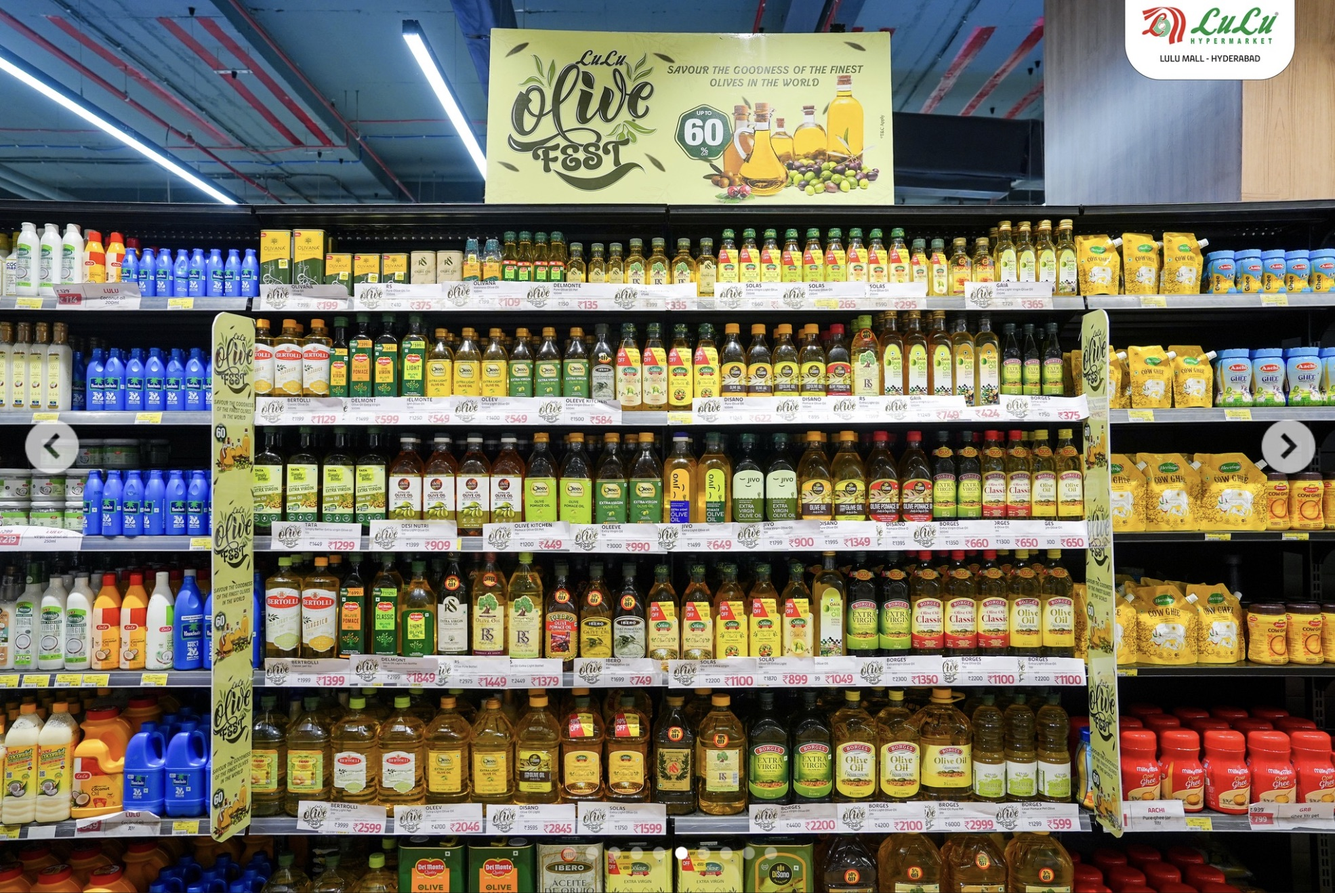parachute: (0, 835, 276, 892), (0, 837, 274, 892), (83, 469, 210, 536), (70, 704, 132, 820), (252, 570, 264, 668)
